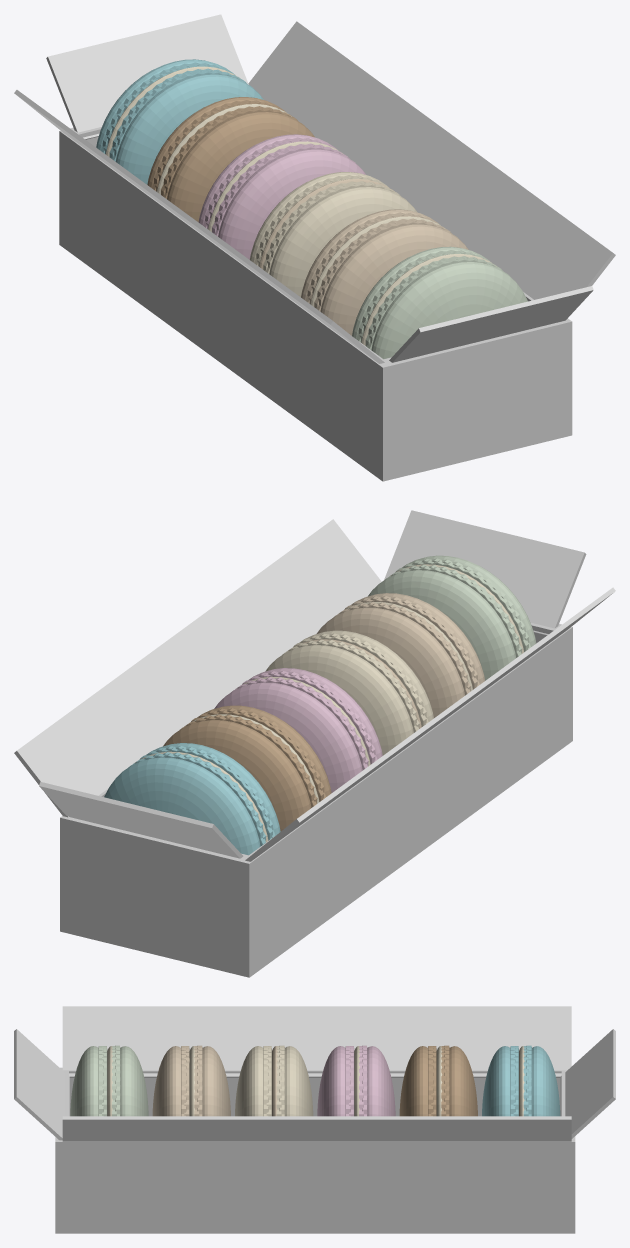
File: Lily's Macaroons.glb
The picture shows the model from 3 angles, top to bottom: view 1: azimuth 30°, elevation 25°; view 2: azimuth 150°, elevation 25°; view 3: azimuth 270°, elevation 25°; orthographic projection. The views are drawn at different scales.
Parts seen in each view (by area): view 1: Mesh_Mesh_head_geo.001_lambert2SG.001; view 2: Mesh_Mesh_head_geo.001_lambert2SG.001; view 3: Mesh_Mesh_head_geo.001_lambert2SG.001.
Part boxes in pixels (x1,y1,x2,y2): Mesh_Mesh_head_geo.001_lambert2SG.001: (14,14,615,481); Mesh_Mesh_head_geo.001_lambert2SG.001: (14,510,615,977); Mesh_Mesh_head_geo.001_lambert2SG.001: (14,1006,615,1233).
Bounding box in the file's own units: 70.85 × 42.07 × 161.
